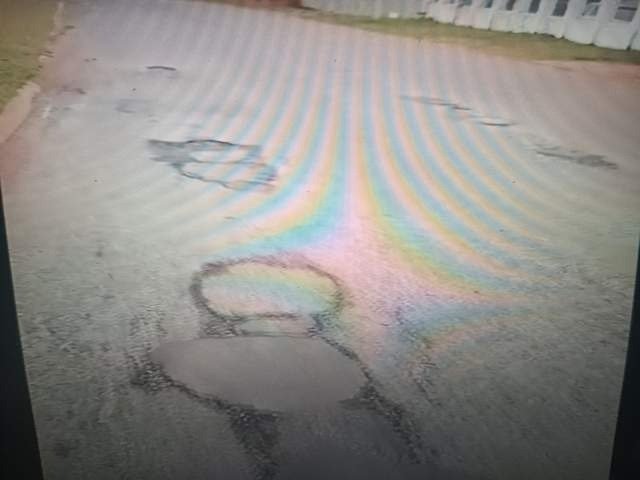pothole: (134, 403, 365, 480)
